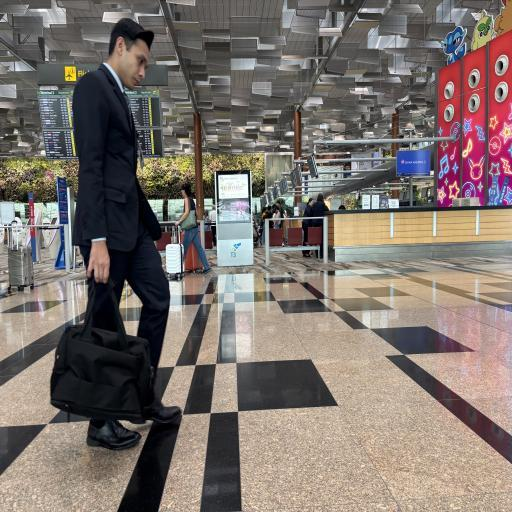person_with_luggage_left: (168, 178, 212, 281)
